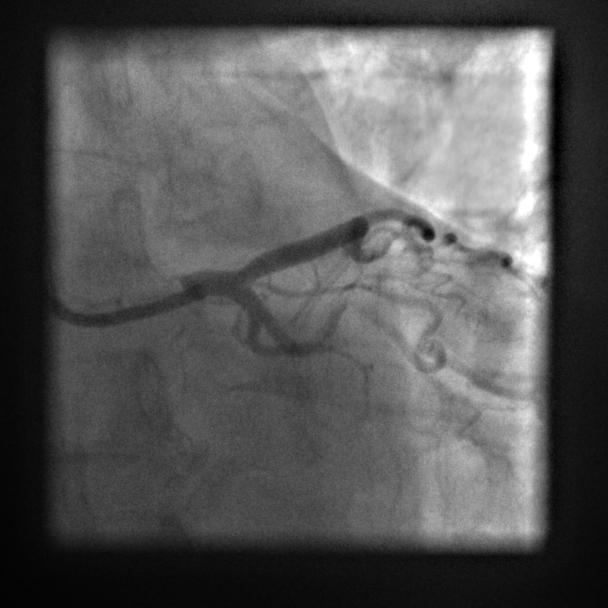Stenosis: (218, 258, 260, 286)
